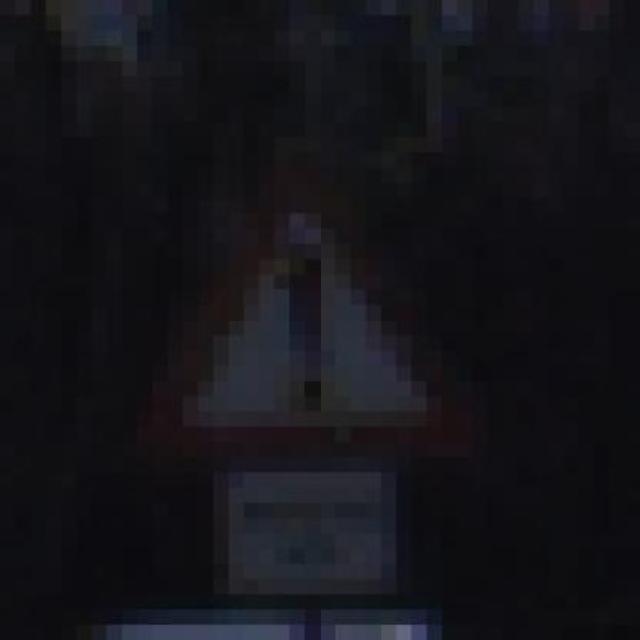Attention Please-: (121, 183, 472, 503)
